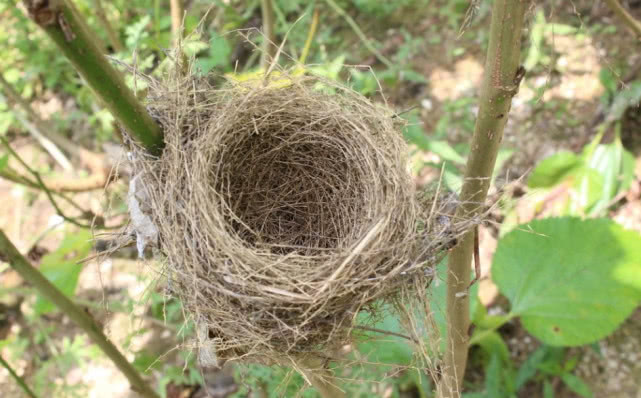bird-nest: (159, 87, 436, 353)
